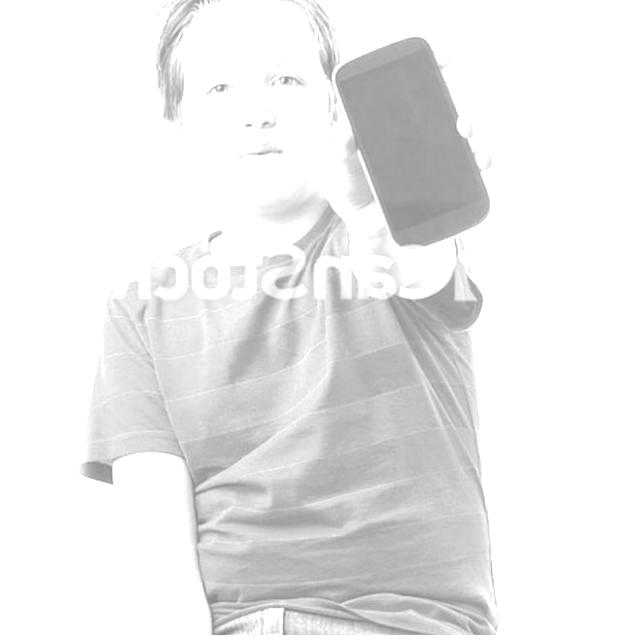fake: (330, 31, 496, 249)
real: (186, 12, 310, 204)
